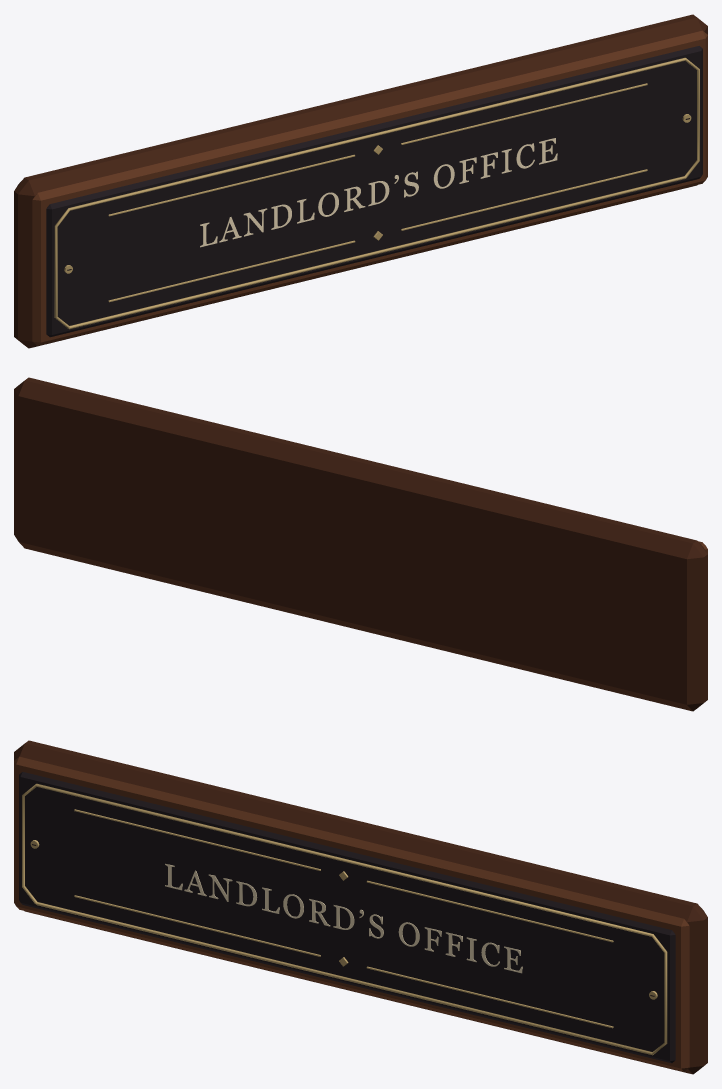
File: OfficeRoomSign.glb
3 views of the same model, one above another, from view 1: azimuth 30°, elevation 25°; view 2: azimuth 150°, elevation 25°; view 3: azimuth 330°, elevation 25° (orthographic).
Parts seen in each view (by area): view 1: EnamelFace.003, OakMoulding.003, BevelledOak.003, GoldCartouche.003, Lettering_LANDLORD’S OFFICE, GoldHairline.012, GoldHairline.013, GoldHairline.014, GoldHairline.015; view 2: BevelledOak.003; view 3: EnamelFace.003, OakMoulding.003, BevelledOak.003, GoldCartouche.003, Lettering_LANDLORD’S OFFICE, GoldHairline.013, GoldHairline.012, GoldHairline.014, GoldHairline.015.
Part boxes in pixels (x1,y1,x2,y2): EnamelFace.003: (46, 46, 702, 337); OakMoulding.003: (32, 30, 707, 345); BevelledOak.003: (14, 14, 707, 348); GoldCartouche.003: (54, 57, 699, 329); Lettering_LANDLORD’S OFFICE: (200, 138, 557, 247); GoldHairline.012: (108, 240, 355, 302); GoldHairline.013: (401, 169, 647, 230); GoldHairline.014: (108, 154, 355, 216); GoldHairline.015: (401, 83, 647, 144); BevelledOak.003: (14, 377, 707, 711); EnamelFace.003: (19, 772, 675, 1063); OakMoulding.003: (14, 756, 689, 1071); BevelledOak.003: (14, 740, 707, 1074); GoldCartouche.003: (22, 783, 667, 1055); Lettering_LANDLORD’S OFFICE: (165, 863, 522, 973); GoldHairline.013: (366, 966, 613, 1028); GoldHairline.012: (74, 895, 320, 956); GoldHairline.014: (74, 809, 320, 870); GoldHairline.015: (366, 880, 613, 942).
Bounding box in the file's own units: 5.8 × 1.35 × 0.381.
